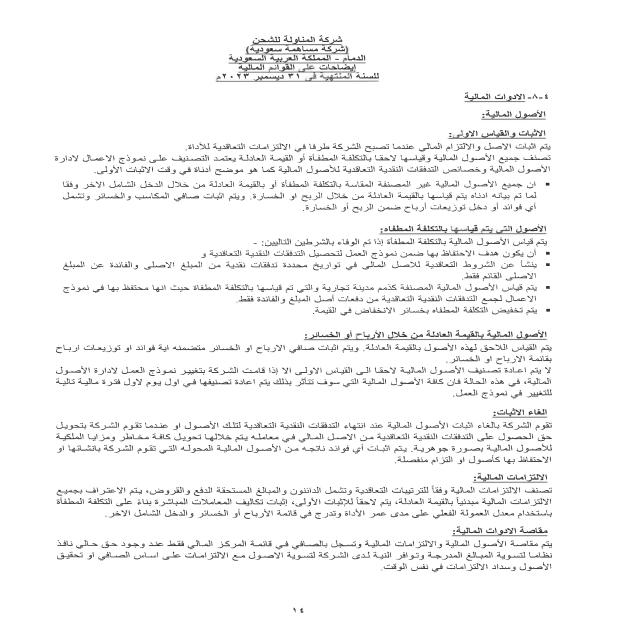notes: (226, 64, 357, 72)
text: (32, 89, 563, 577)
